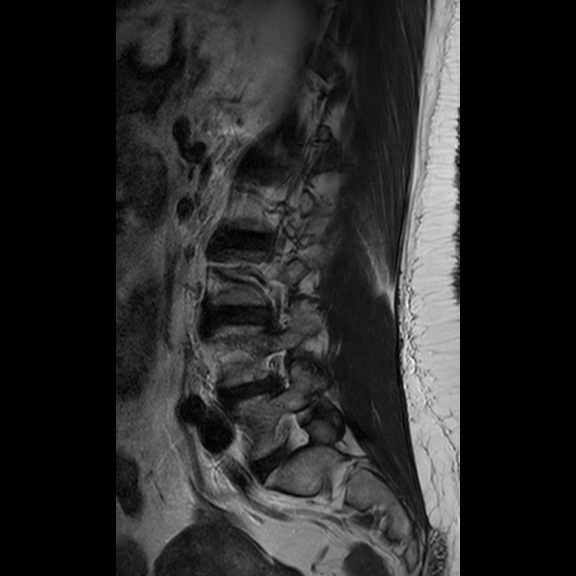LFS1: (253, 345, 302, 402)
